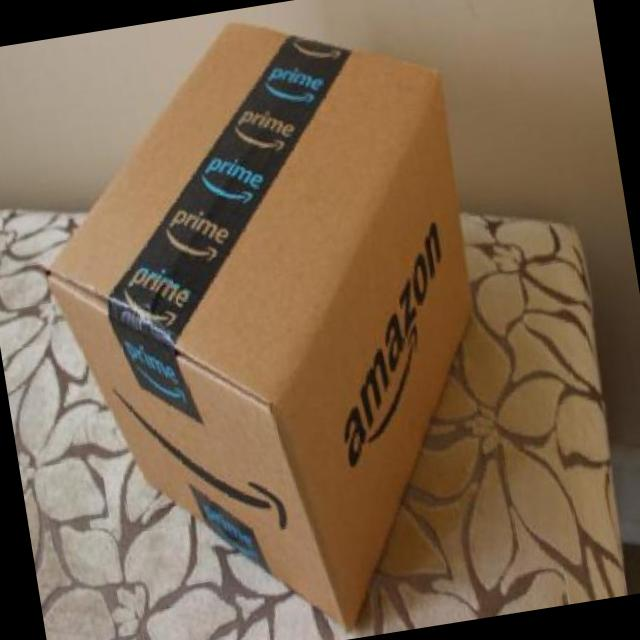box: (46, 23, 474, 623)
